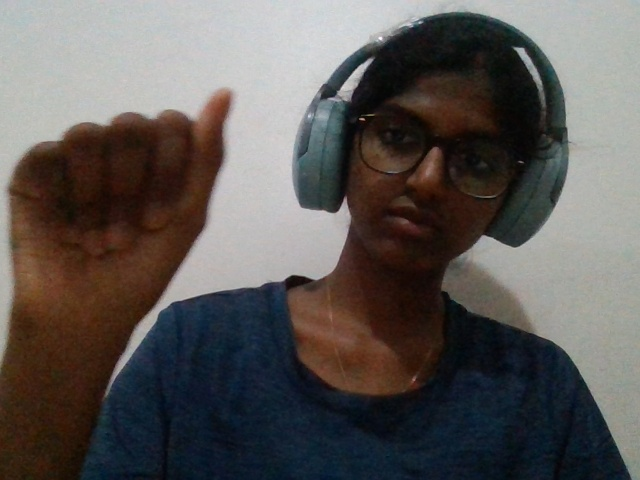A: (1, 55, 256, 412)
